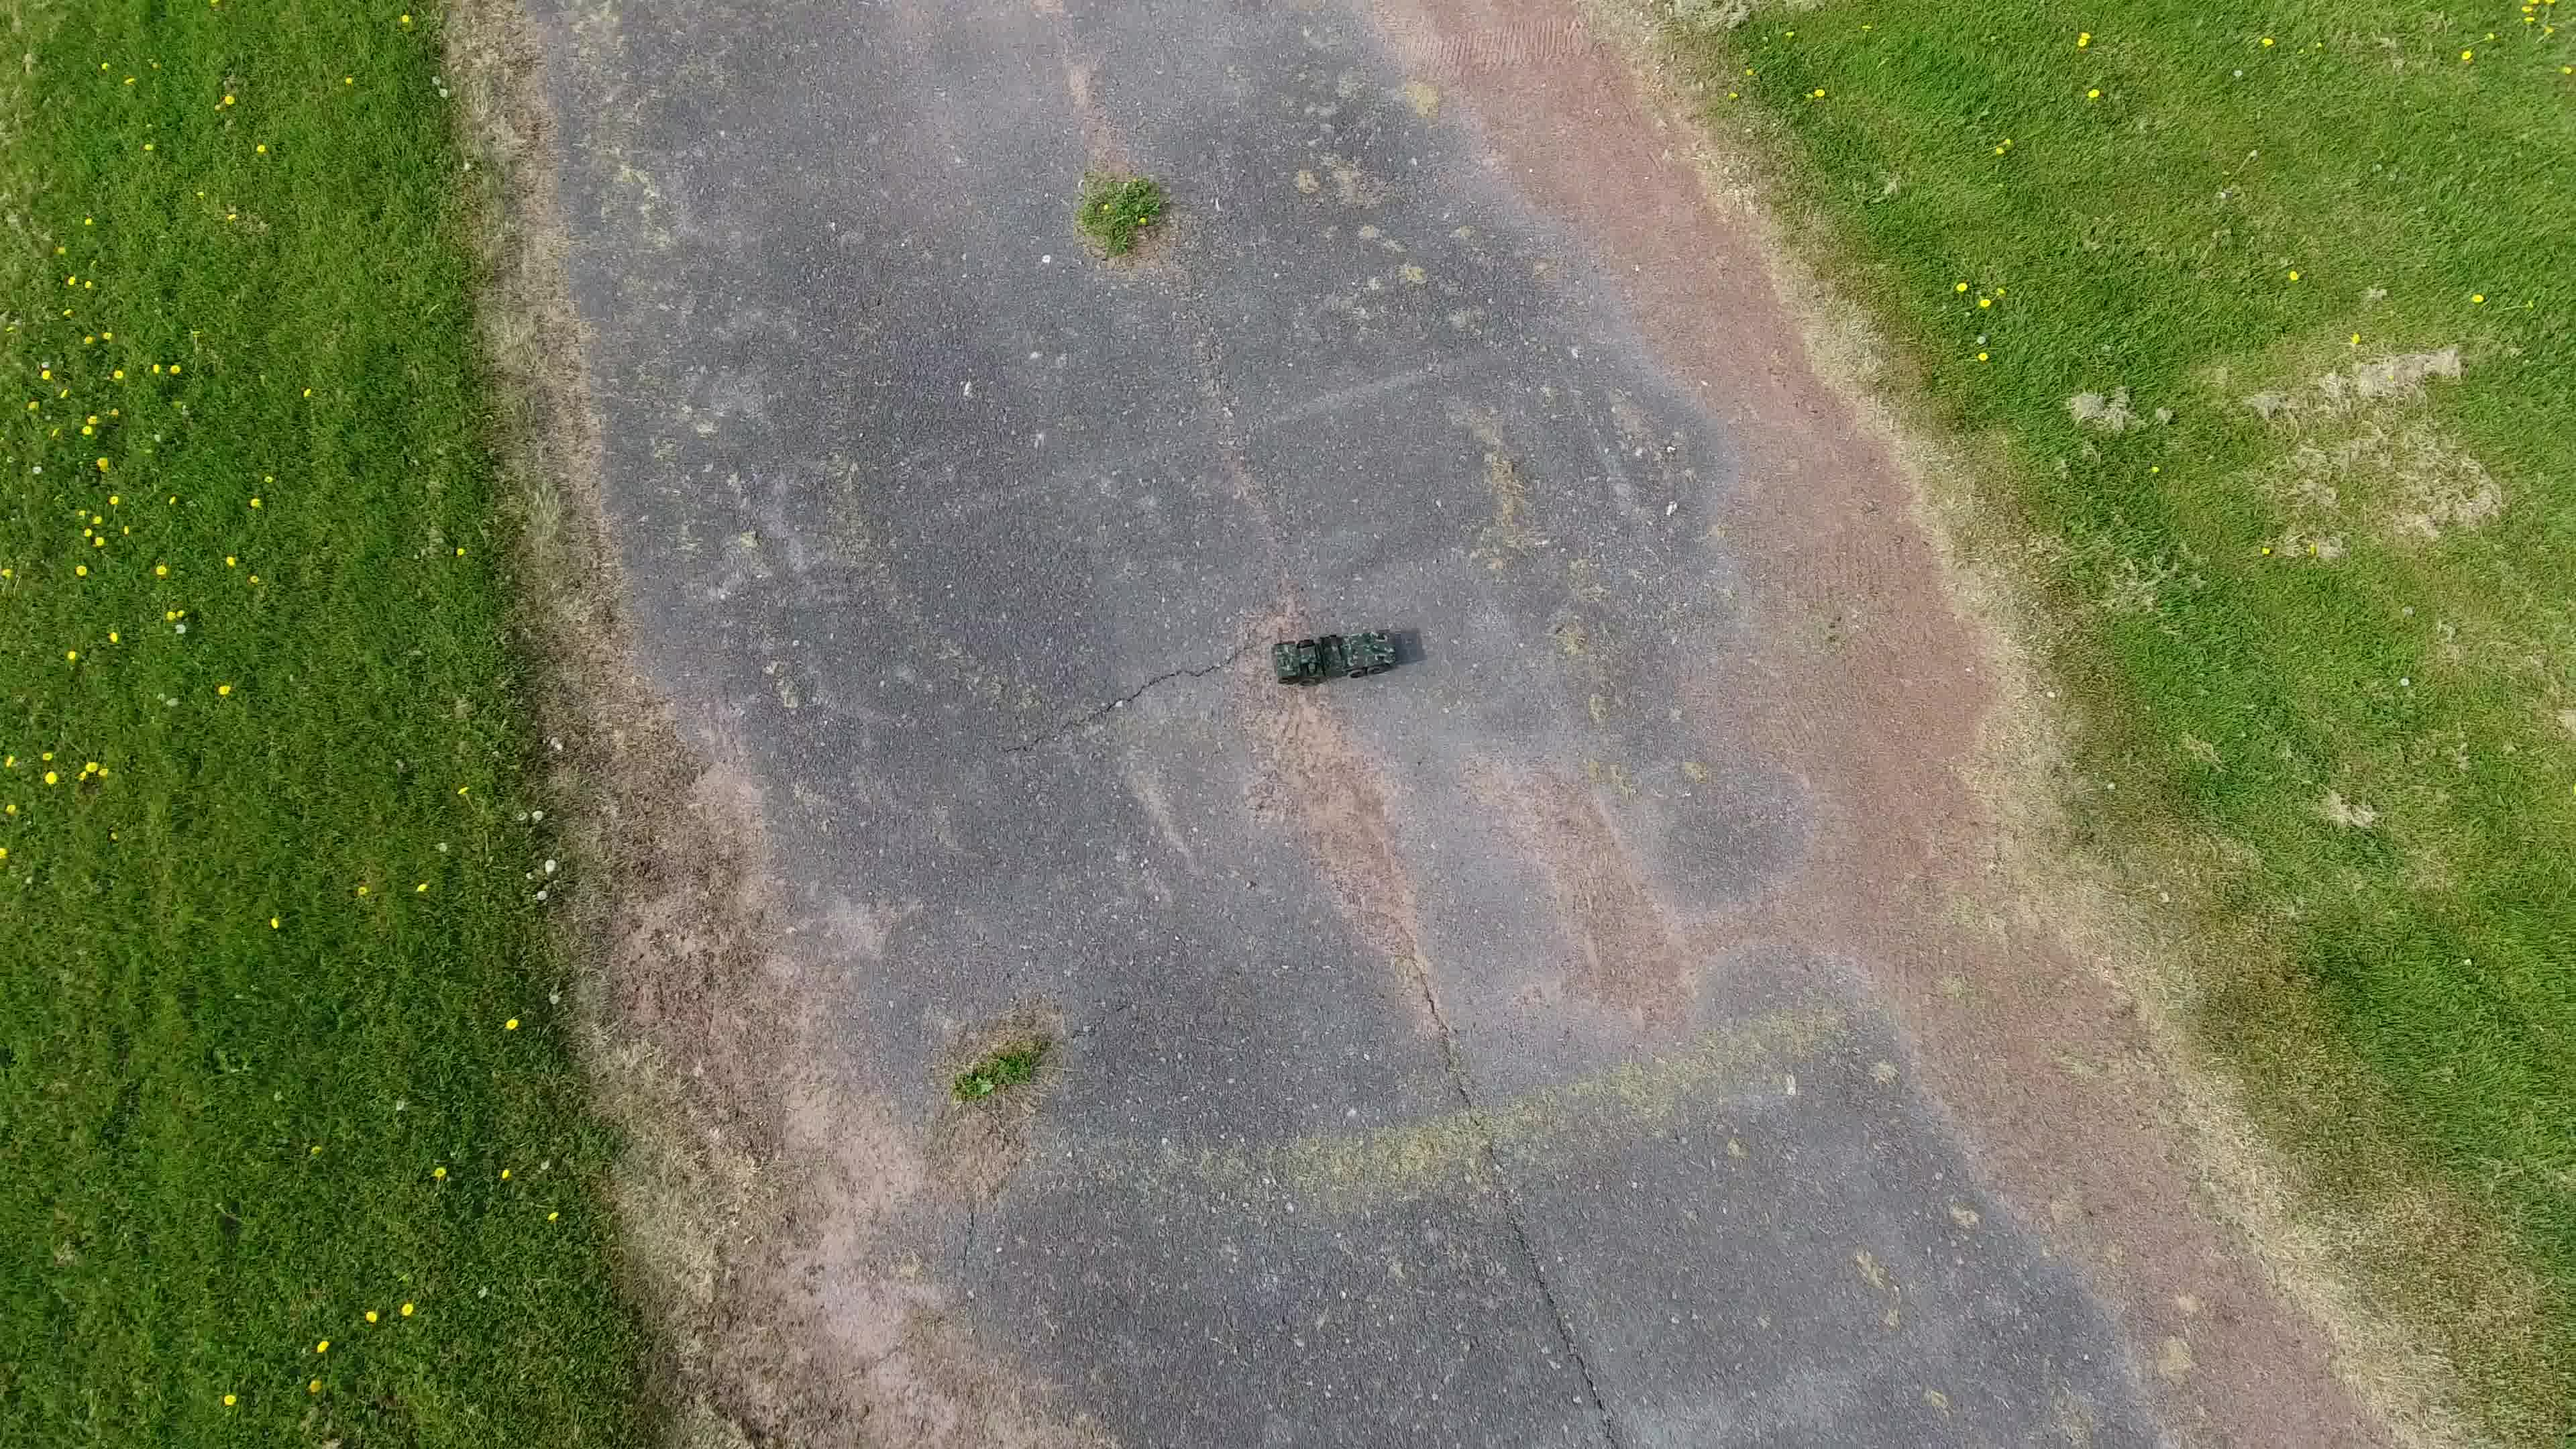transporter9_camo: (1265, 626, 1401, 690)
